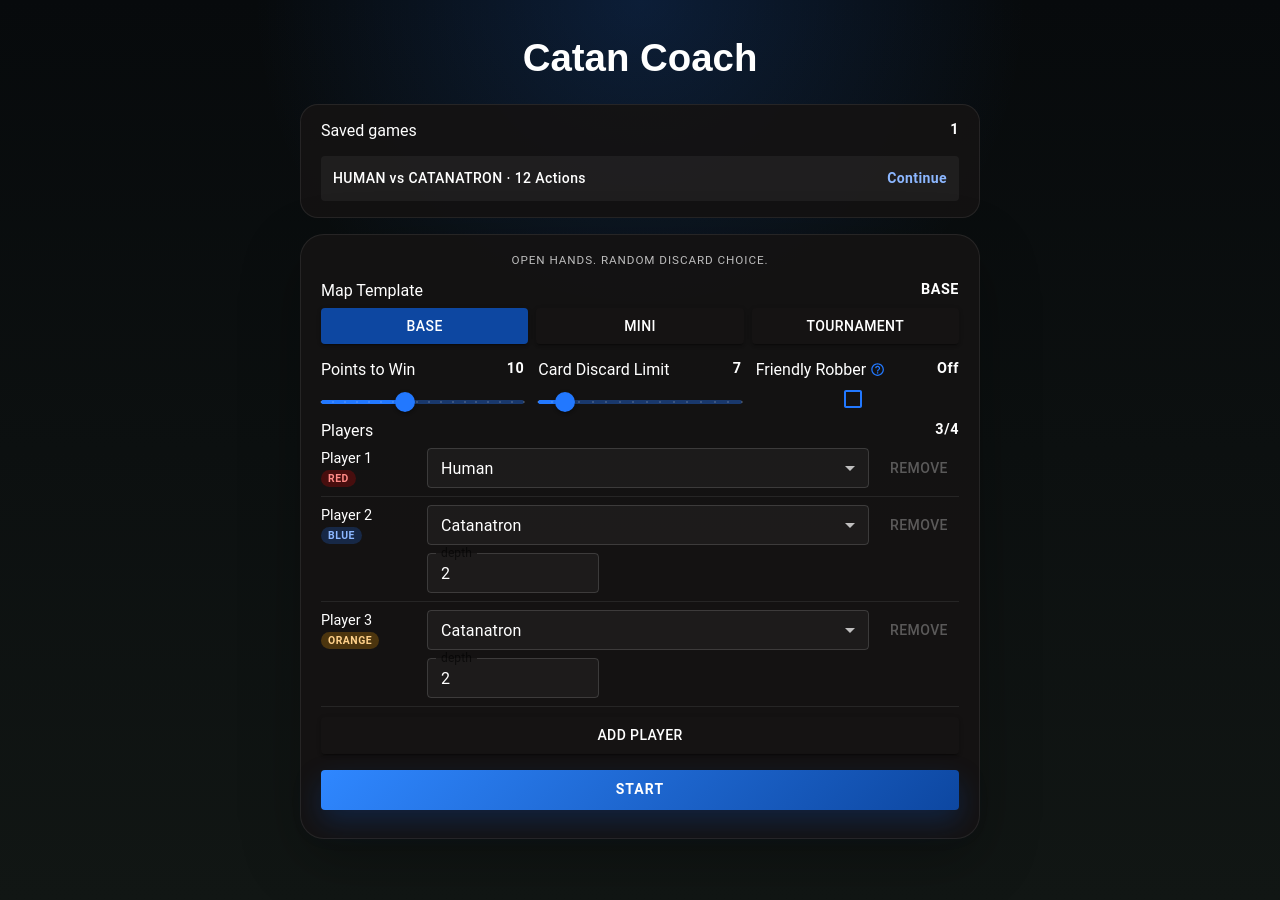
Test case: recovers when game creation fails
Click the button "Start".
click(640, 790)  # box [321,770,959,810]
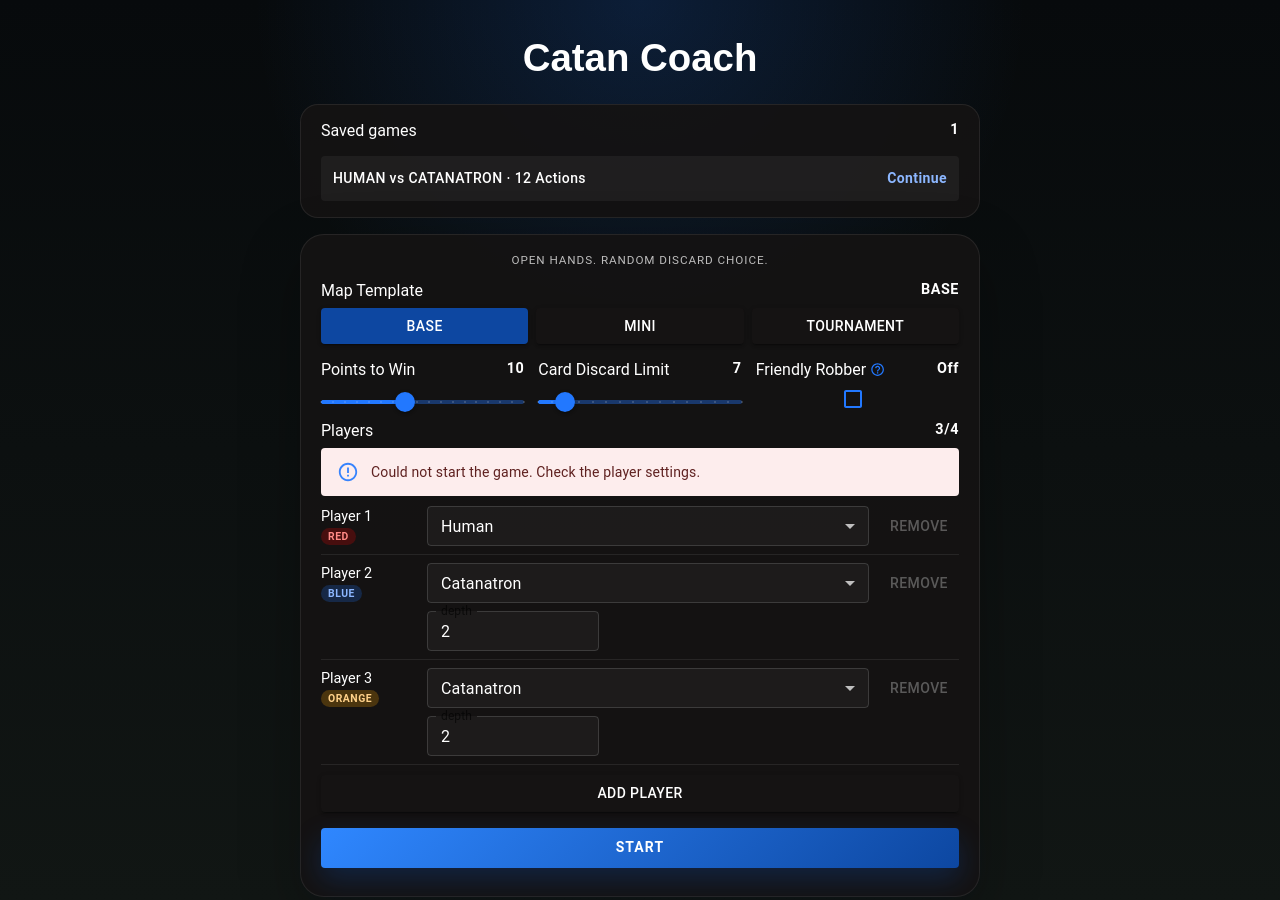
Expected: the button "Start" is enabled, [321,828,959,868]
Expected: the text "Could not start the game. Check the player settings." is shown, [371,464,700,480]
